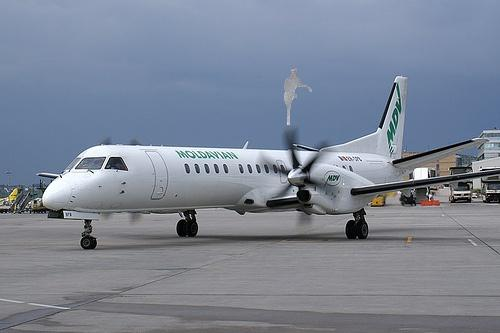tampered: (285, 69, 312, 125)
